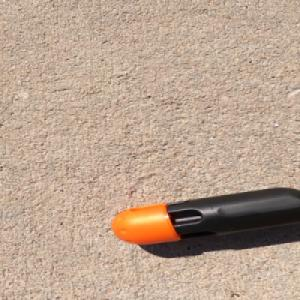PlasticPart: (109, 186, 300, 245)
